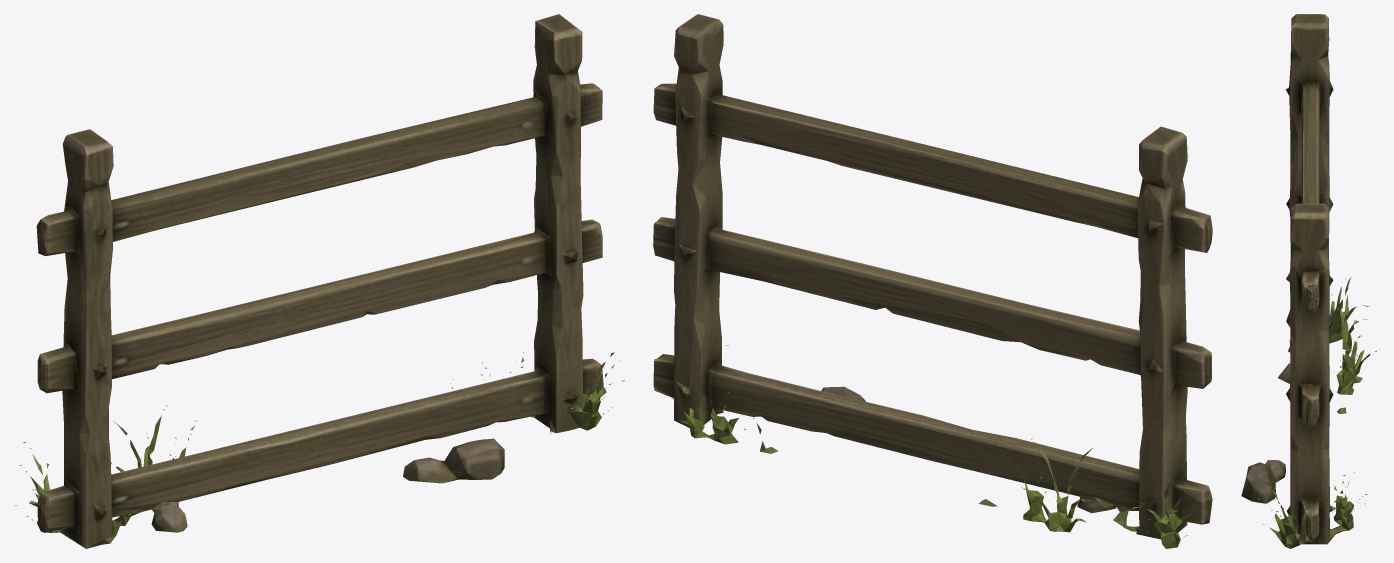
File: fence_rail_grass_a_lod0.glb
3 views of the same model, side by side, from view 1: azimuth 30°, elevation 25°; view 2: azimuth 150°, elevation 25°; view 3: azimuth 270°, elevation 25° (orthographic). The views are drawn at different scales.
Visible parts, largest first — view 1: fence_rail_grass_a_lod0; view 2: fence_rail_grass_a_lod0; view 3: fence_rail_grass_a_lod0.
Part boxes in pixels (left/top/right/bottom): fence_rail_grass_a_lod0: left=14, top=14, right=624, bottom=548; fence_rail_grass_a_lod0: left=653, top=14, right=1212, bottom=548; fence_rail_grass_a_lod0: left=1241, top=14, right=1379, bottom=548.
Size of the model in its own units: 1.98 by 1.29 by 0.4895.
Materials: 1 (1 with a texture image).
